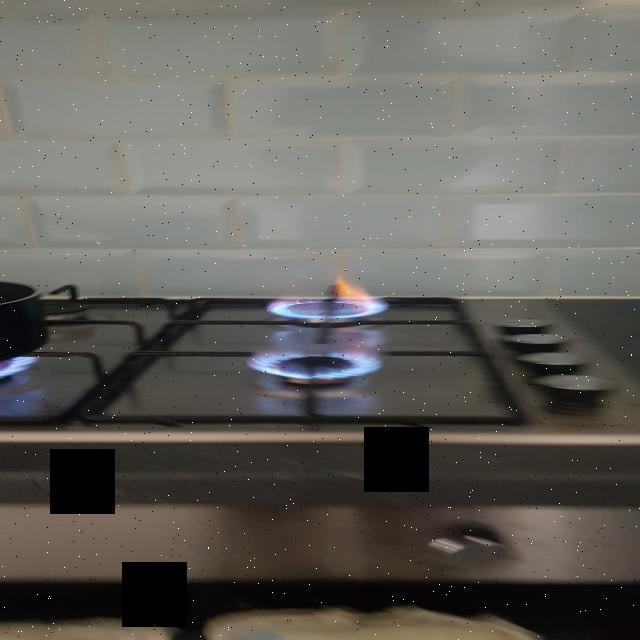Flame: (260, 274, 400, 326), (242, 349, 392, 394), (0, 352, 50, 400)
Pan: (0, 276, 76, 340)
